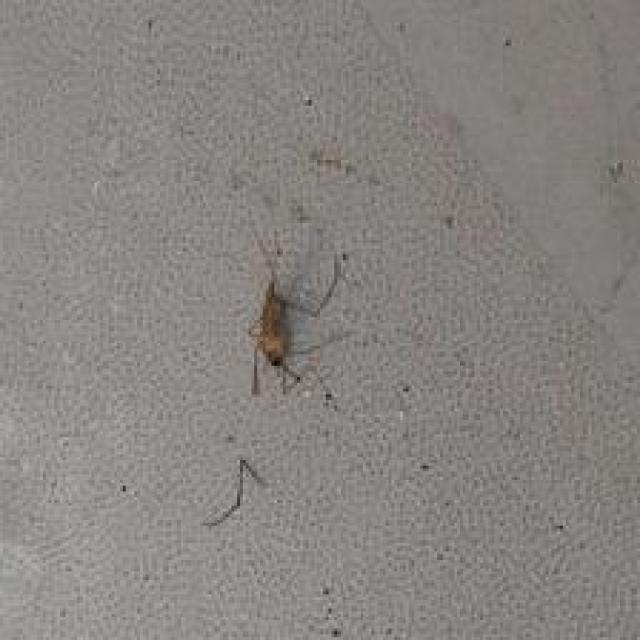Culex: (245, 240, 348, 403)
